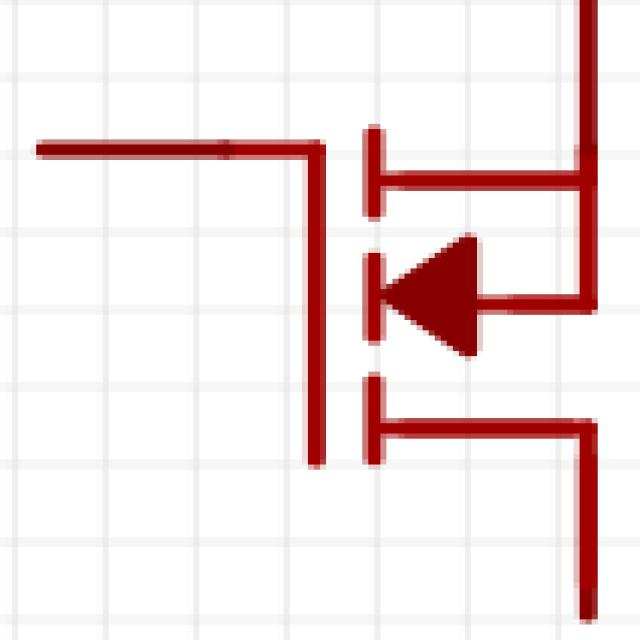nmos: (26, 10, 630, 625)
